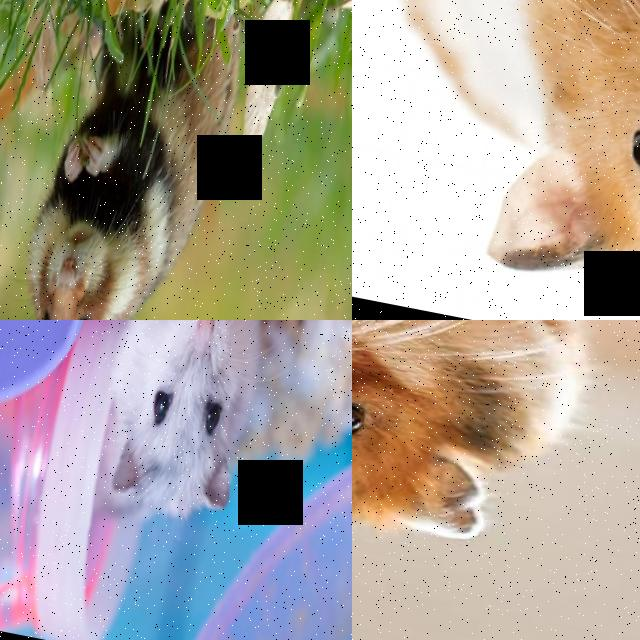hamster: (352, 0, 640, 320), (0, 0, 251, 320), (352, 320, 611, 594), (91, 320, 300, 527)
